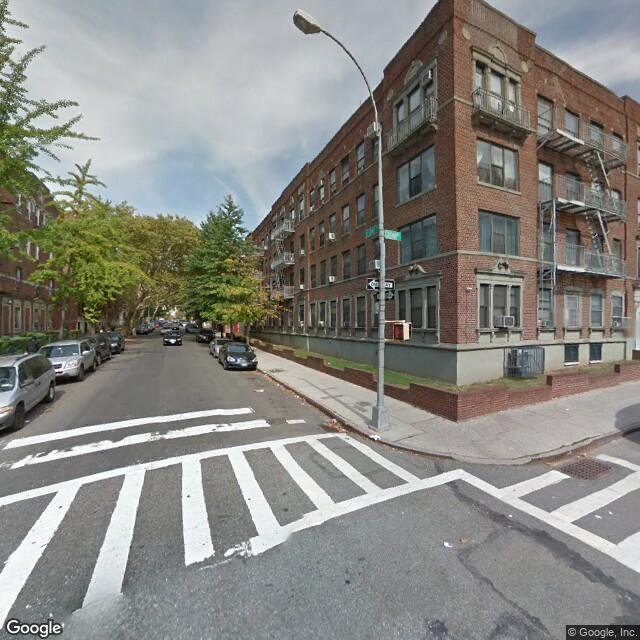litter: (444, 541, 455, 548), (370, 435, 381, 441), (256, 388, 265, 394), (25, 605, 34, 610), (595, 514, 603, 519), (509, 513, 516, 518), (608, 511, 613, 515)
